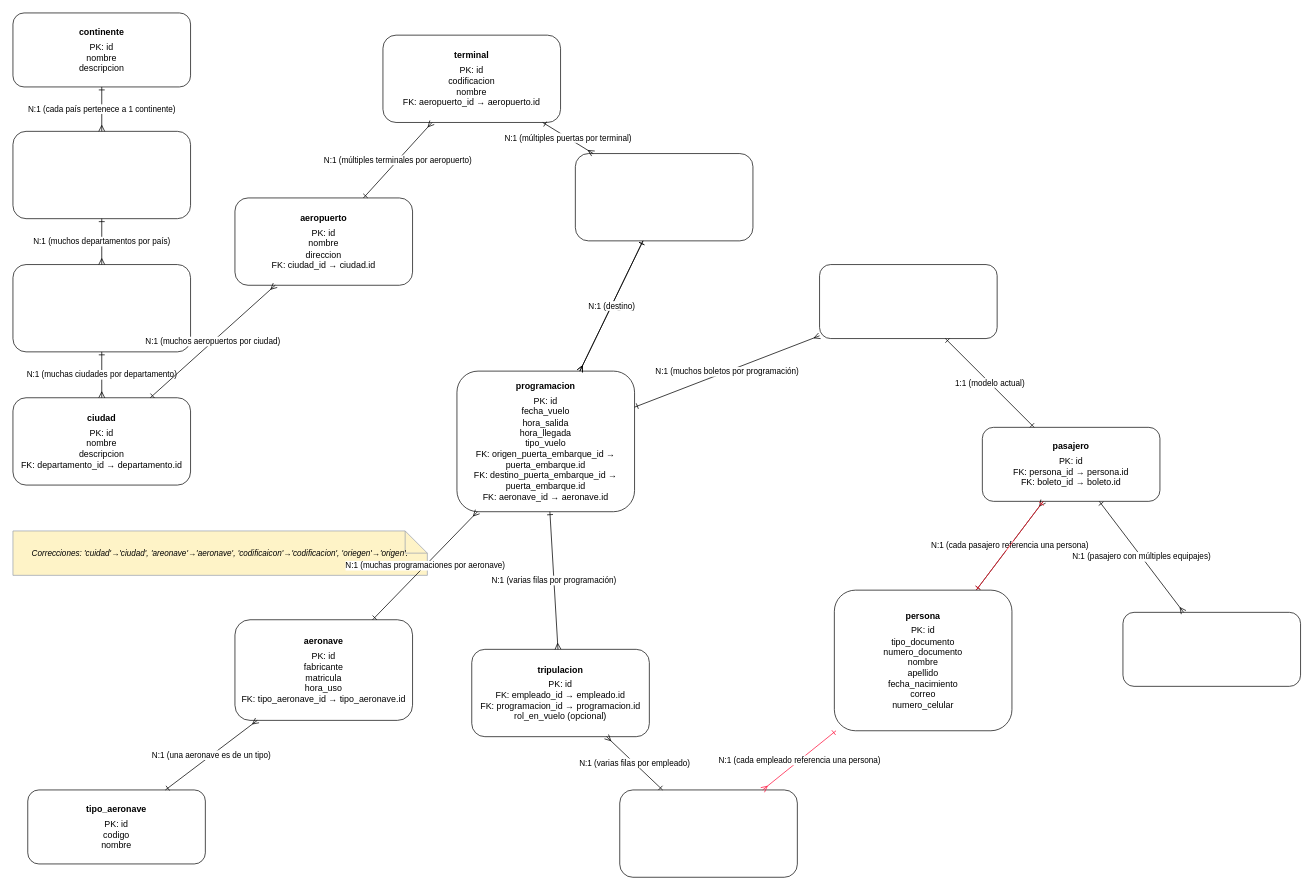
Image size: 1314x890. Some labels were removed from this diagram. The shapes that lost their labels are listed below. From the top down, each one's box as (x1, y1, x2, y2) in pixels, then its label:
(12, 131, 191, 219): pais PK: id nombre descripcion FK: continente_id → continente.id
(575, 153, 753, 241): puerta_embarque PK: id codificacion nombre FK: terminal_id → terminal.id
(12, 264, 191, 352): departamento PK: id nombre descripcion FK: pais_id → pais.id
(819, 264, 997, 339): boleto PK: id codigo FK: programacion_id → programacion.id
(1122, 612, 1301, 686): equipaje PK: id codigo FK: pasajero_id → pasajero.id
(619, 789, 797, 877): empleado PK: id salario rol FK: persona_id → persona.id
